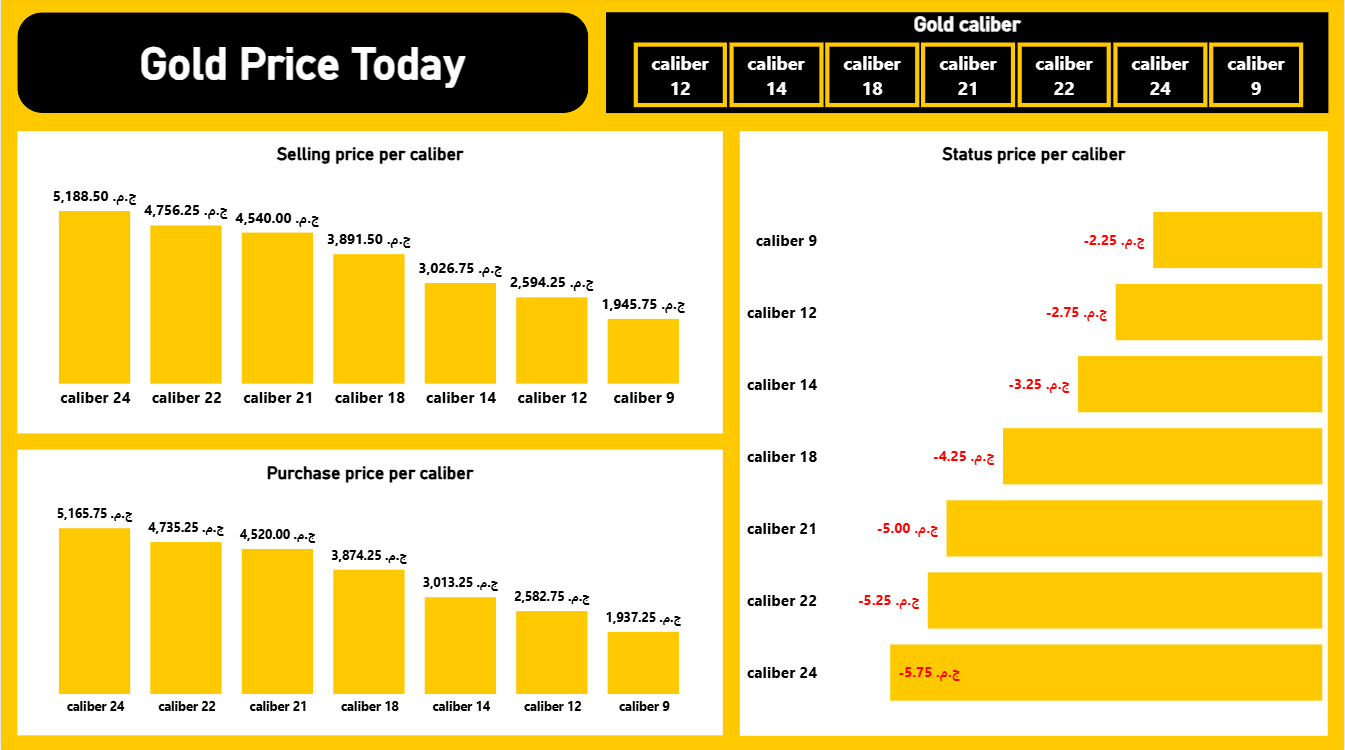

The dashboard page shown, as its layout file describes it:
{"tool":"powerbi","page":{"name":"اسعار اللذهب","canvas":[1280,720],"ordinal":0},"visuals":[{"type":"shape","box":[16,16,544,96],"z":0},{"type":"clusteredColumnChart","title":"Selling price per caliber","fields":{"Y":["Sum(ذهب.سعر البيع)"],"Category":["ذهب.caliber"]},"box":[16,128,672,288],"z":1},{"type":"clusteredColumnChart","title":"Purchase price per caliber","fields":{"Category":["ذهب.caliber"],"Y":["Sum(ذهب.سعر الشراء)"]},"box":[16,432,672,272],"z":2},{"type":"slicer","title":"Gold caliber","fields":{"Values":["ذهب.caliber"]},"box":[576,16,688,96],"z":3},{"type":"barChart","title":"Status price per caliber","fields":{"Category":["ذهب.caliber"],"Y":["Sum(ذهب.السعر)"]},"box":[704,128,544,576],"z":4}]}

Visuals, with their boxes in screenshot pixels (x1, y1, x2, y2), scaled from the page's 1280x720 canvas onto the 1345x750 screenshot:
shape: BBox(17, 17, 588, 117)
"Selling price per caliber" clusteredColumnChart: BBox(17, 133, 723, 433)
"Purchase price per caliber" clusteredColumnChart: BBox(17, 450, 723, 733)
"Gold caliber" slicer: BBox(605, 17, 1328, 117)
"Status price per caliber" barChart: BBox(740, 133, 1311, 733)
